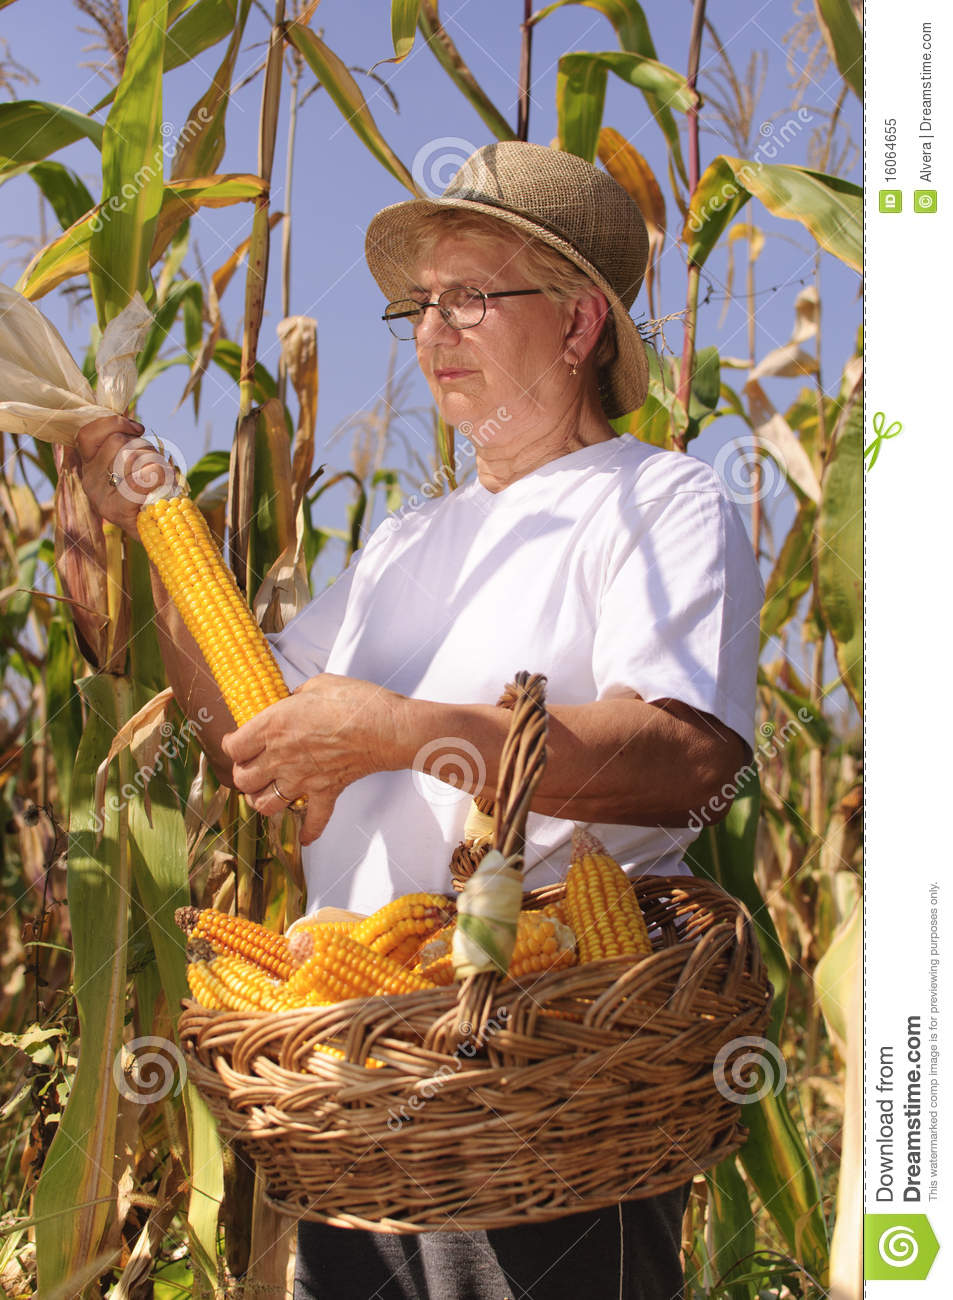human: (65, 123, 734, 1280)
